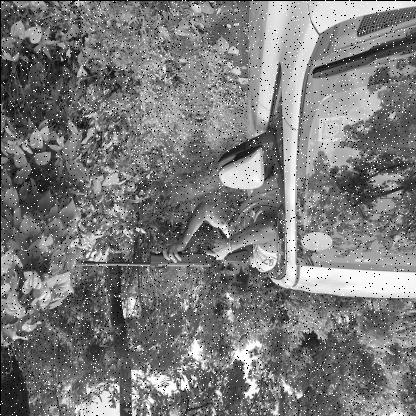rifle: (75, 240, 256, 270)
